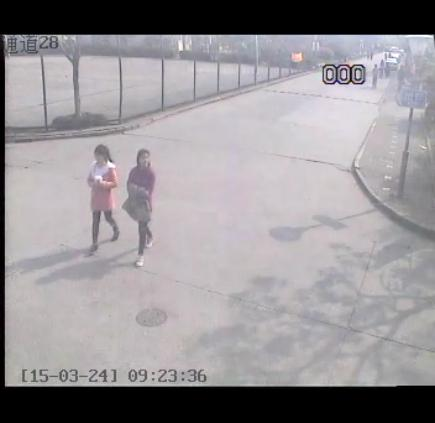person: (120, 147, 159, 270), (84, 143, 122, 256)
